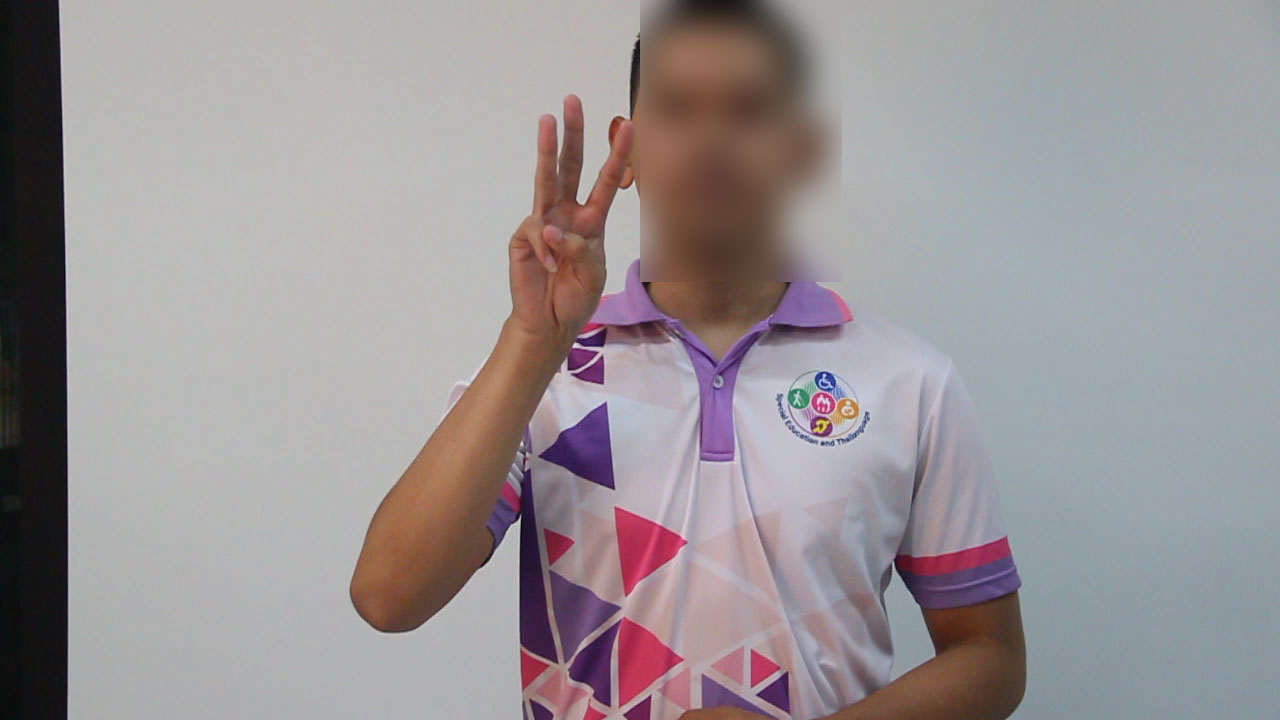wor: (492, 87, 640, 351)
